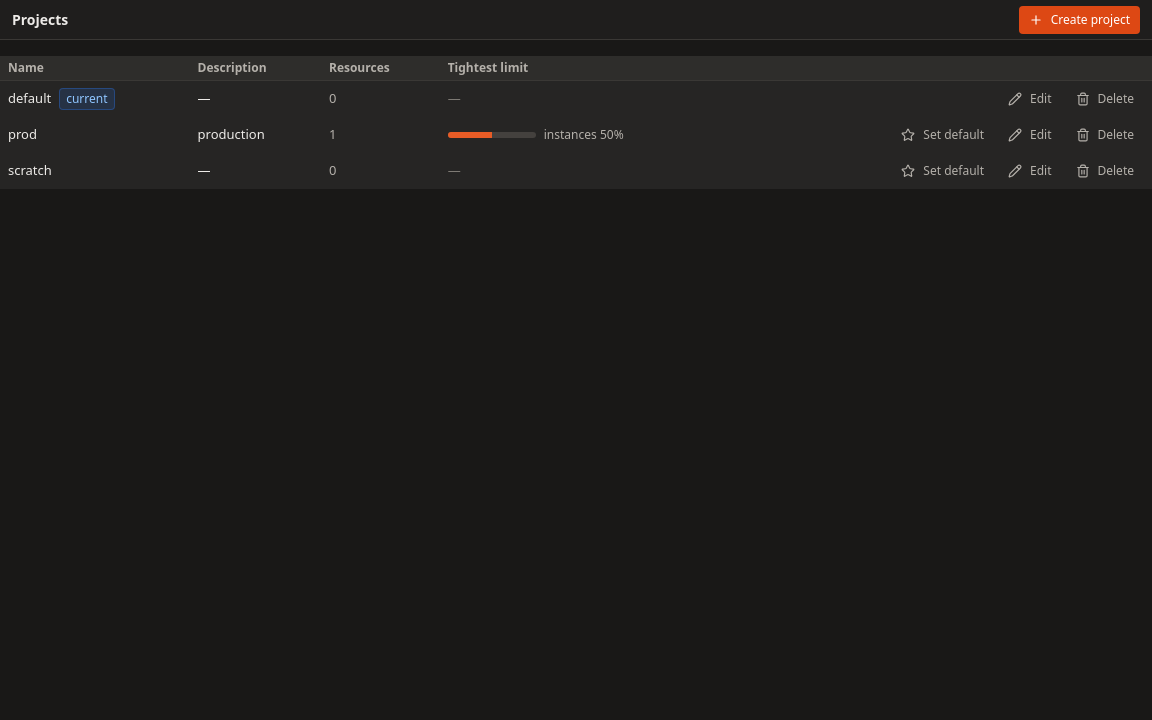
ProjectsPage › uses the project state endpoint for the summary and editor usage
Expected: the text "prod" is shown, [8,125,37,145]
Expected: the element with test id "project-usage-prod" reads "instances 50%", [448,127,624,143]
Click the button with test id "project-edit-prod": (1030, 135) [998,121,1062,149]
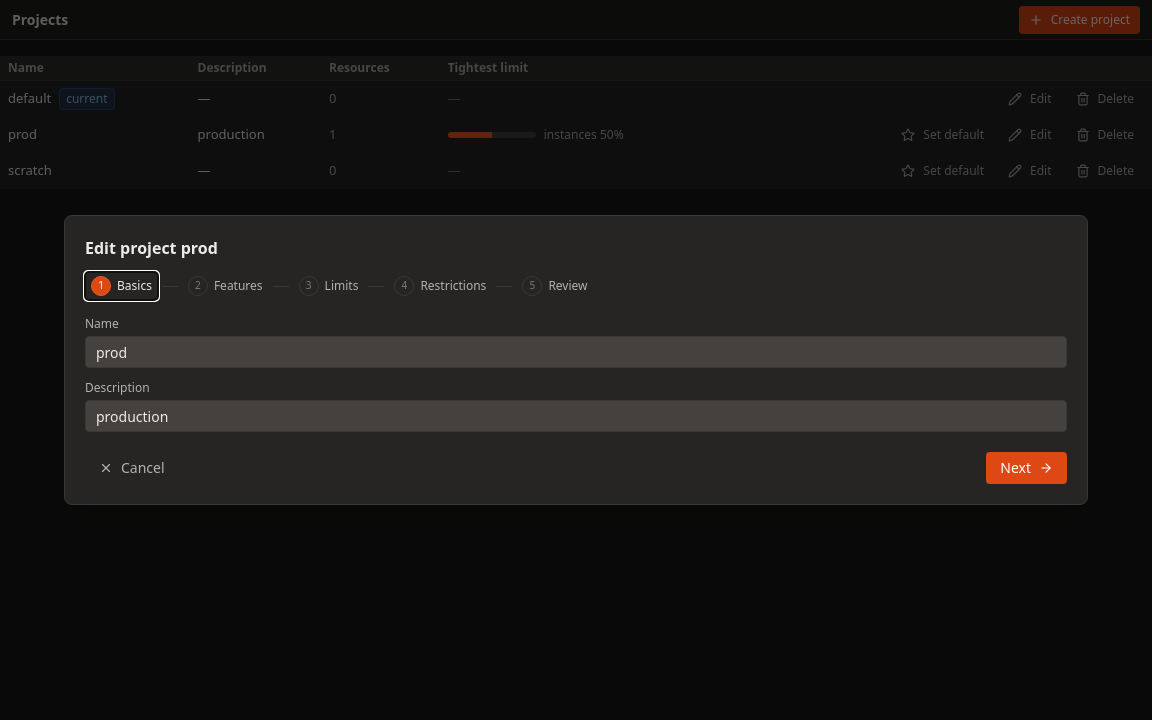
Click the button with test id "step-tab-limits": (328, 286) [293,272,364,300]
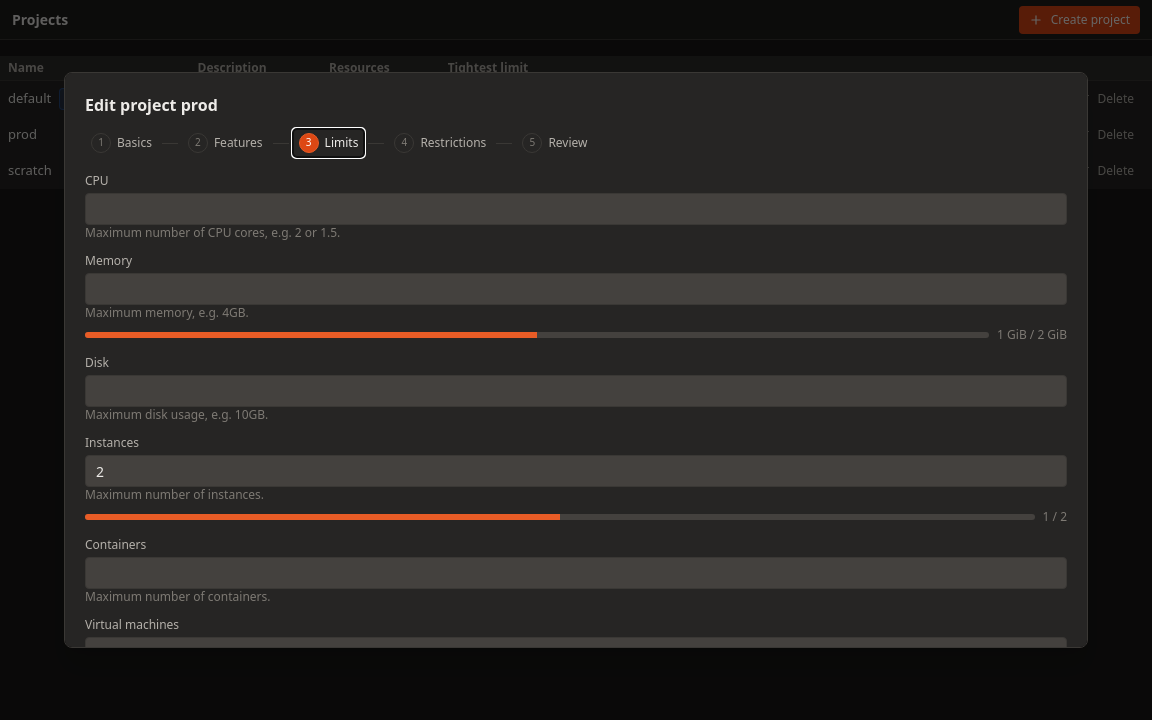
Expected: the text "1 GiB / 2 GiB" is shown, [997,327,1067,343]
Expected: the text "1 / 2" is shown, [1043,509,1067,525]
